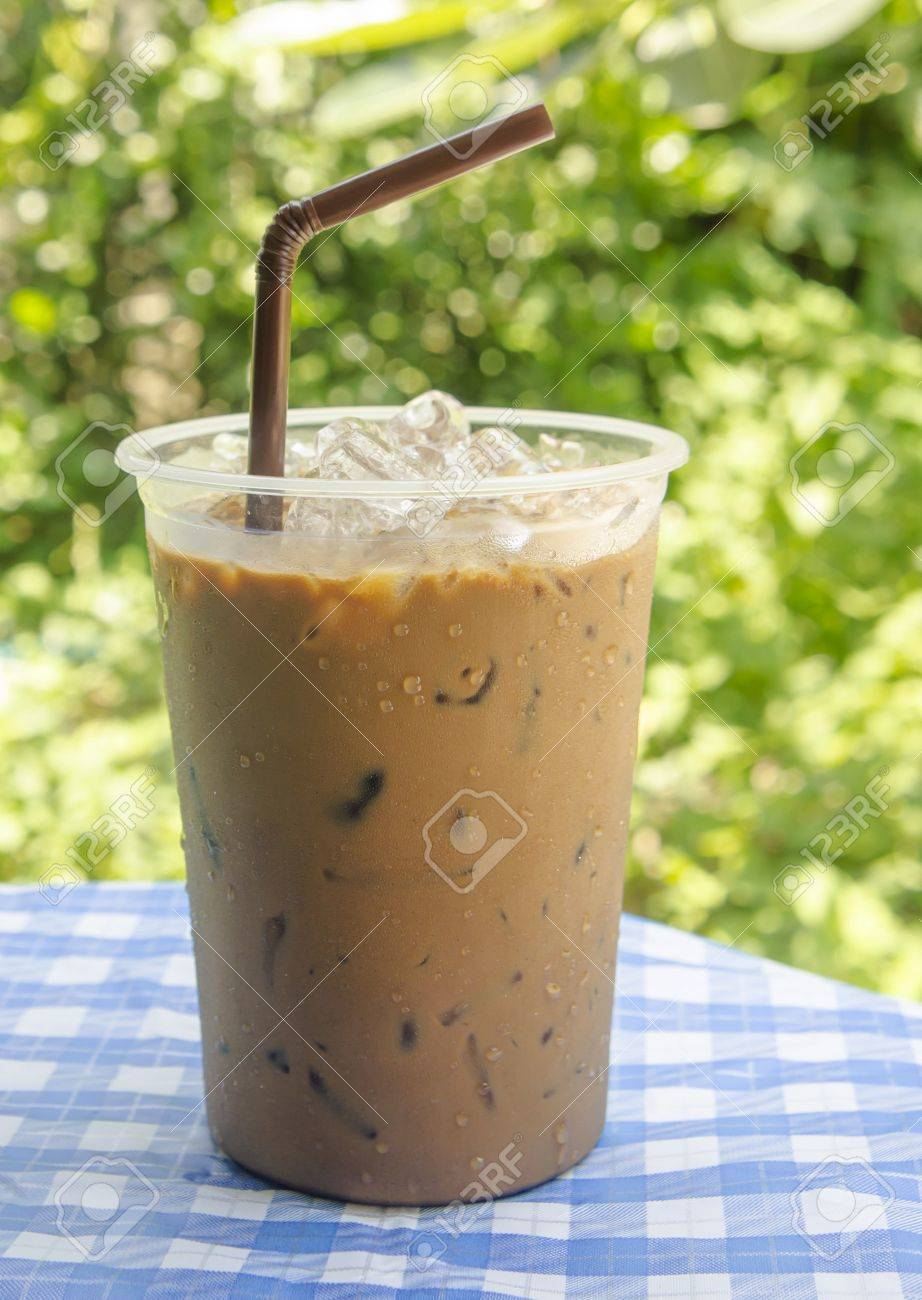plastic_glass: (120, 395, 697, 1214)
